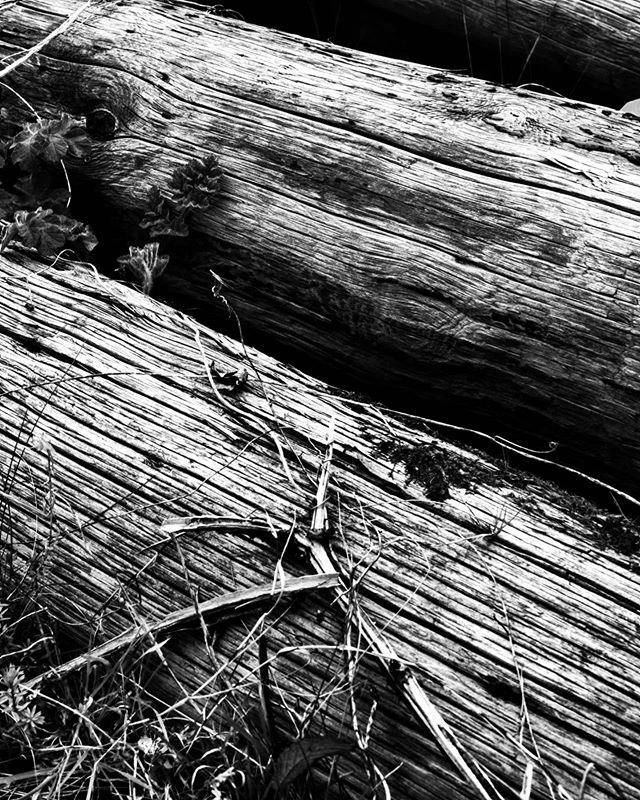tree trunk: (1, 356, 634, 800), (5, 1, 639, 444)
